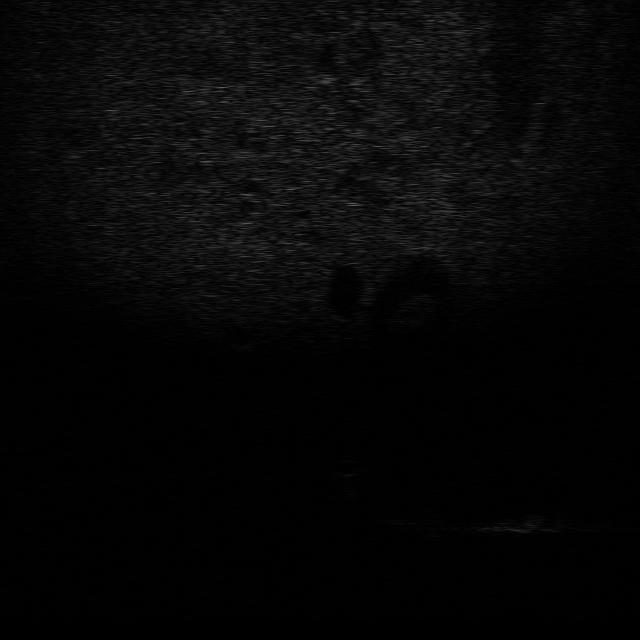ball: (326, 456, 372, 479)
metal bucket: (468, 507, 576, 538)
tyre: (370, 497, 448, 529)
